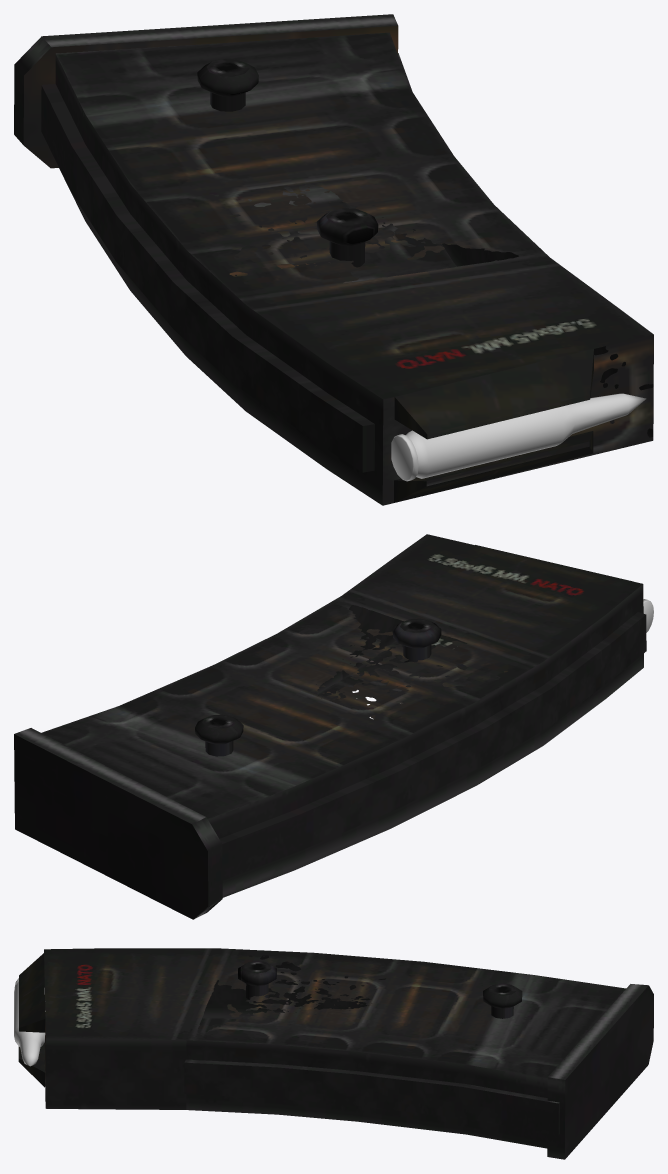
File: t6_attach_mag_xm8_view_LOD0.obj
3 renders of one model, top to bottom at view 1: azimuth 30°, elevation 25°; view 2: azimuth 150°, elevation 25°; view 3: azimuth 270°, elevation 25°, orthographic. The views are drawn at different scales.
Parts seen in each view (by area): view 1: mtl_t6_wpn_ar_xm8, mtl_t6_wpn_ar_xm8_camo3, mtl_t6_attach_bullet; view 2: mtl_t6_wpn_ar_xm8, mtl_t6_wpn_ar_xm8_camo3; view 3: mtl_t6_wpn_ar_xm8, mtl_t6_wpn_ar_xm8_camo3, mtl_t6_attach_bullet.
Boxes of the visible parts, x1=… form: mtl_t6_wpn_ar_xm8: x1=14, y1=14, x2=653, y2=505; mtl_t6_wpn_ar_xm8_camo3: x1=41, y1=59, x2=378, y2=472; mtl_t6_attach_bullet: x1=391, y1=393, x2=646, y2=481; mtl_t6_wpn_ar_xm8: x1=14, y1=534, x2=645, y2=919; mtl_t6_wpn_ar_xm8_camo3: x1=195, y1=615, x2=646, y2=880; mtl_t6_wpn_ar_xm8: x1=18, y1=948, x2=653, y2=1159; mtl_t6_wpn_ar_xm8_camo3: x1=184, y1=961, x2=558, y2=1134; mtl_t6_attach_bullet: x1=14, y1=978, x2=45, y2=1066.
Size of the model in its own units: 10.15 by 3.59 by 20.16.
